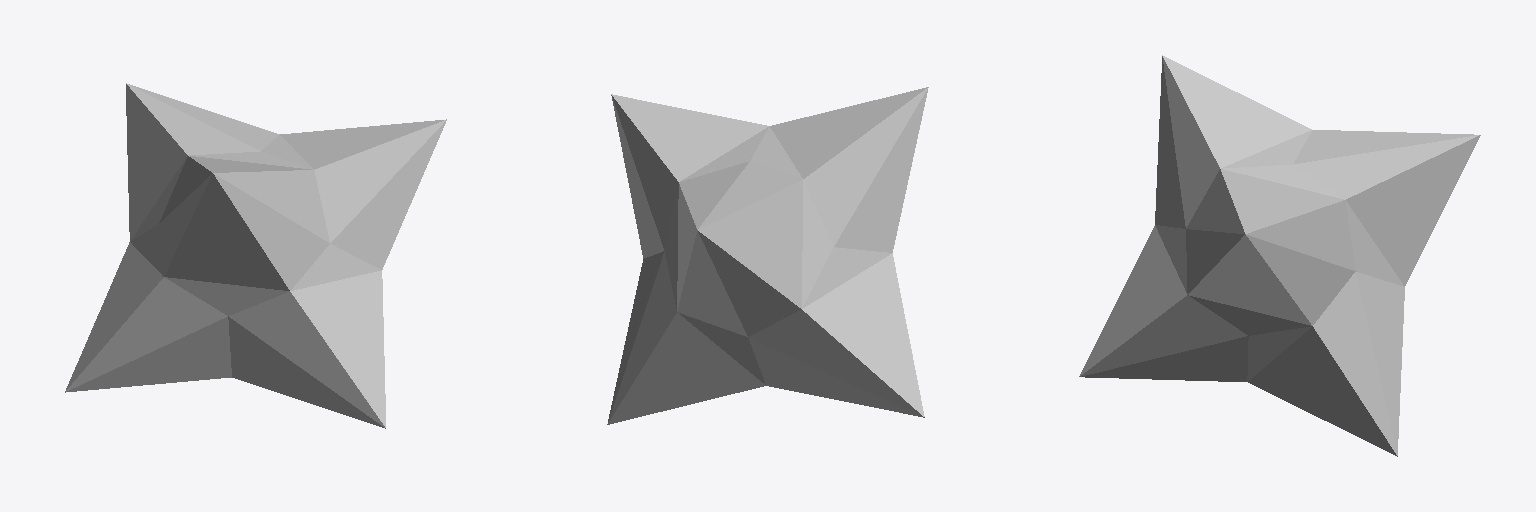
Rendered from StarDust1.obj.
The picture shows the model from 3 angles: view 1: azimuth 30°, elevation 25°; view 2: azimuth 150°, elevation 25°; view 3: azimuth 270°, elevation 25°; orthographic projection.
Visible parts, largest first — view 1: StarDust; view 2: StarDust; view 3: StarDust.
Boxes of the visible parts, box(x1,y1,x2,y2) form: StarDust: box(65, 83, 446, 428); StarDust: box(607, 87, 928, 424); StarDust: box(1079, 55, 1480, 456).
Bounding box in the file's own units: 0.8183 × 0.6779 × 0.8183.